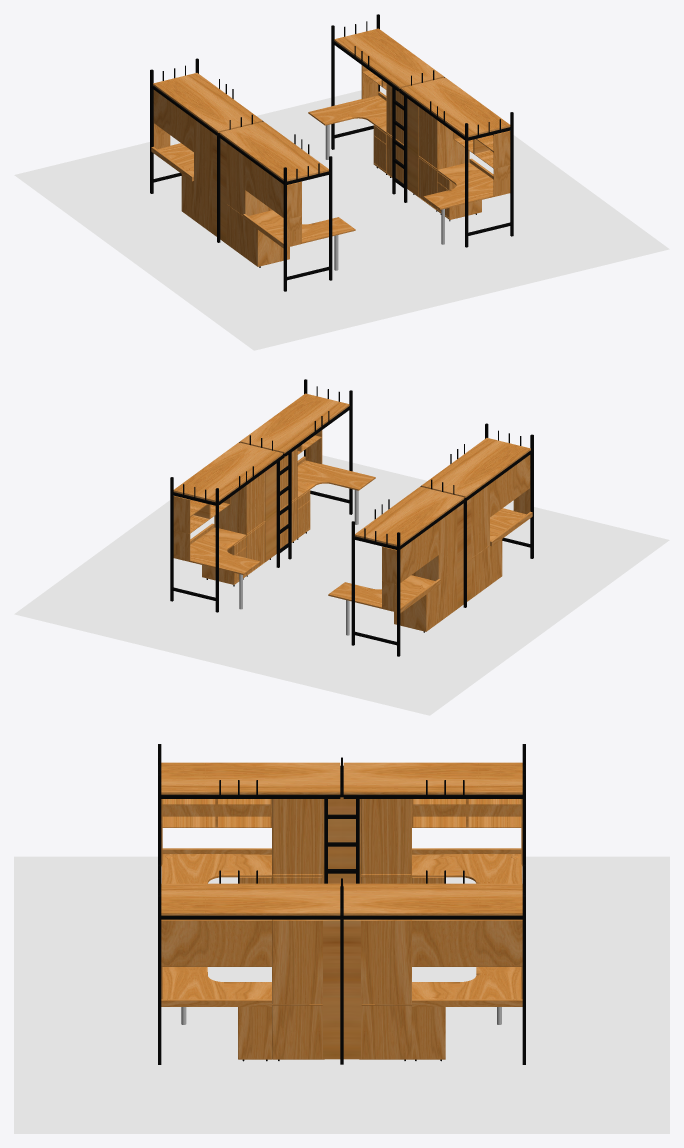
3 renders of one model, top to bottom at view 1: azimuth 30°, elevation 25°; view 2: azimuth 150°, elevation 25°; view 3: azimuth 270°, elevation 25°, orthographic. The views are drawn at different scales.
Parts seen in each view (by area): view 1: 地板.001, polySurface1, polySurface1.001, pCube36, pCube15, pCube15.001, pCube36.001, pCube5, Office Desk.003, Office Desk.001, Office Desk.004, pCube27 (+6 smaller); view 2: 地板.001, polySurface1, polySurface1.001, pCube15, pCube36, pCube36.001, pCube15.001, pCube27, Office Desk.001, Office Desk.003, pCube5, Office Desk.002 (+6 smaller); view 3: 地板.001, polySurface1.001, polySurface1, pCube15.001, pCube36.001, pCube15, pCube36, pCube5.001, pCube27.001, pCube5, pCube27, Office Desk.002 (+16 smaller).
Part boxes in pixels (x1,y1,x2,y2): 地板.001: (14,85,669,350); polySurface1: (194,119,272,257); polySurface1.001: (386,83,469,210); pCube36: (153,73,262,132); pCube15: (219,121,328,181); pCube15.001: (334,28,443,88); pCube36.001: (401,77,510,137); pCube5: (245,157,301,219); Office Desk.003: (423,162,493,209); Office Desk.001: (308,95,386,133); Office Desk.004: (226,204,355,243); pCube27: (153,90,193,151); 地板.001: (14,450,669,715); polySurface1: (411,484,489,622); polySurface1.001: (214,448,297,575); pCube15: (421,438,530,497); pCube36: (355,486,464,546); pCube36.001: (240,393,349,453); pCube15.001: (173,442,282,502); pCube27: (382,522,438,584); Office Desk.001: (190,527,260,574); Office Desk.003: (297,460,375,498); pCube5: (490,455,530,516); Office Desk.002: (328,575,434,608); 地板.001: (14,856,669,1133); polySurface1.001: (272,919,411,1059); polySurface1: (272,797,411,886); pCube15.001: (343,883,522,915); pCube36.001: (161,883,340,915); pCube15: (161,762,340,794); pCube36: (343,762,522,794); pCube5.001: (412,919,522,966); pCube27.001: (161,919,271,966); pCube5: (161,799,271,827); pCube27: (412,799,522,827); Office Desk.002: (362,854,522,883).
Bounding box in the file's own units: 76.97 × 21.82 × 76.97.
